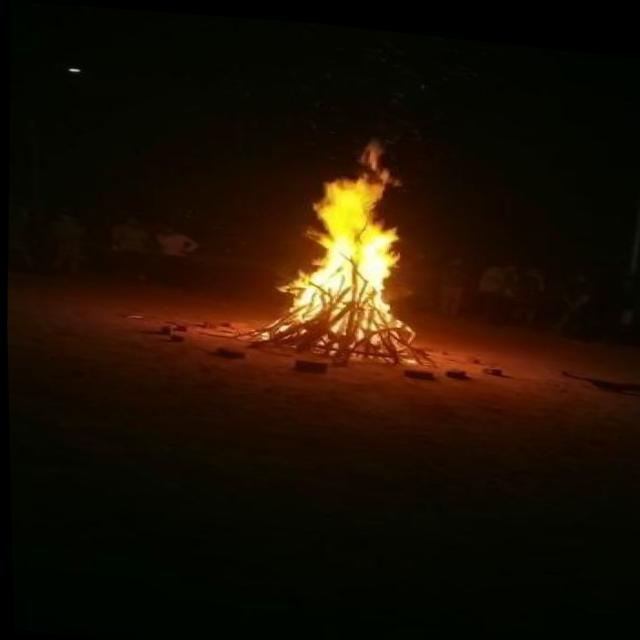fire: (260, 111, 448, 359)
